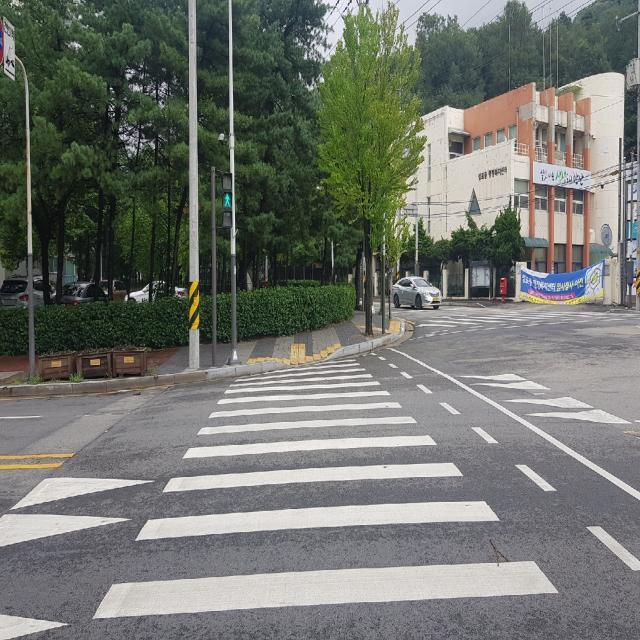횡단보도: (91, 358, 560, 620)
